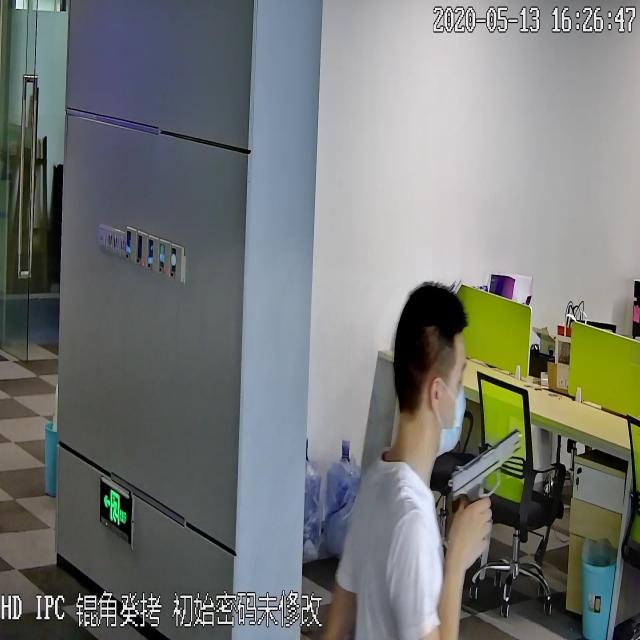gun: (446, 424, 521, 562)
